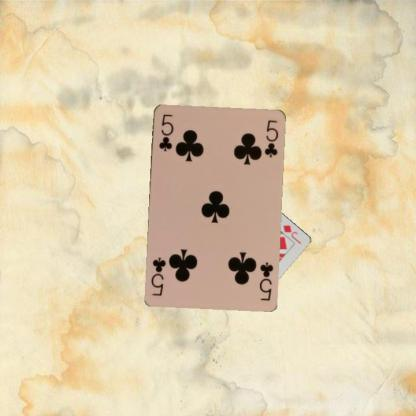5c: (256, 260, 274, 302), (156, 112, 174, 152)
Jd: (281, 223, 302, 245)
